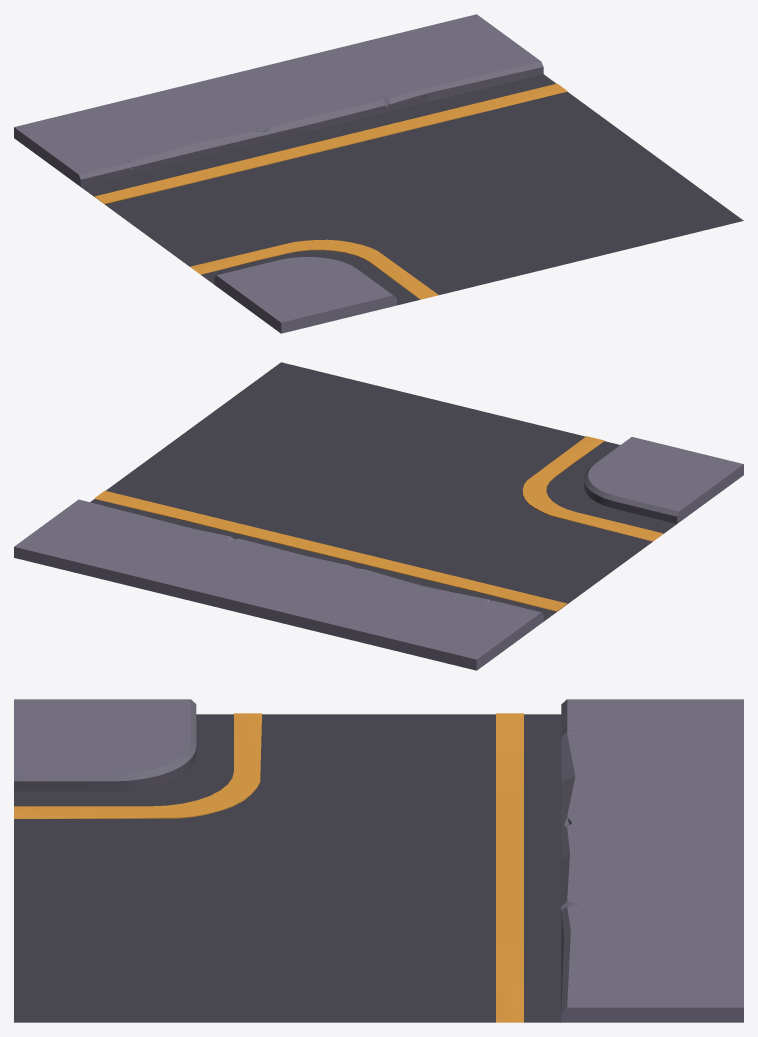
The model's file is street_donmeli_kaldirim_left.fbx.
3 views of the same model, one above another, from view 1: azimuth 30°, elevation 25°; view 2: azimuth 150°, elevation 25°; view 3: azimuth 270°, elevation 25° (orthographic). The views are drawn at different scales.
Visible parts, largest first — view 1: yol.008; view 2: yol.008; view 3: yol.008.
Part boxes in pixels (left/top/right/bottom): yol.008: left=14, top=14, right=743, bottom=333; yol.008: left=14, top=362, right=743, bottom=670; yol.008: left=14, top=699, right=743, bottom=1022.
Size of the model in its own units: 779 by 17.75 by 779.
Materials: 3 (1 with a texture image).
